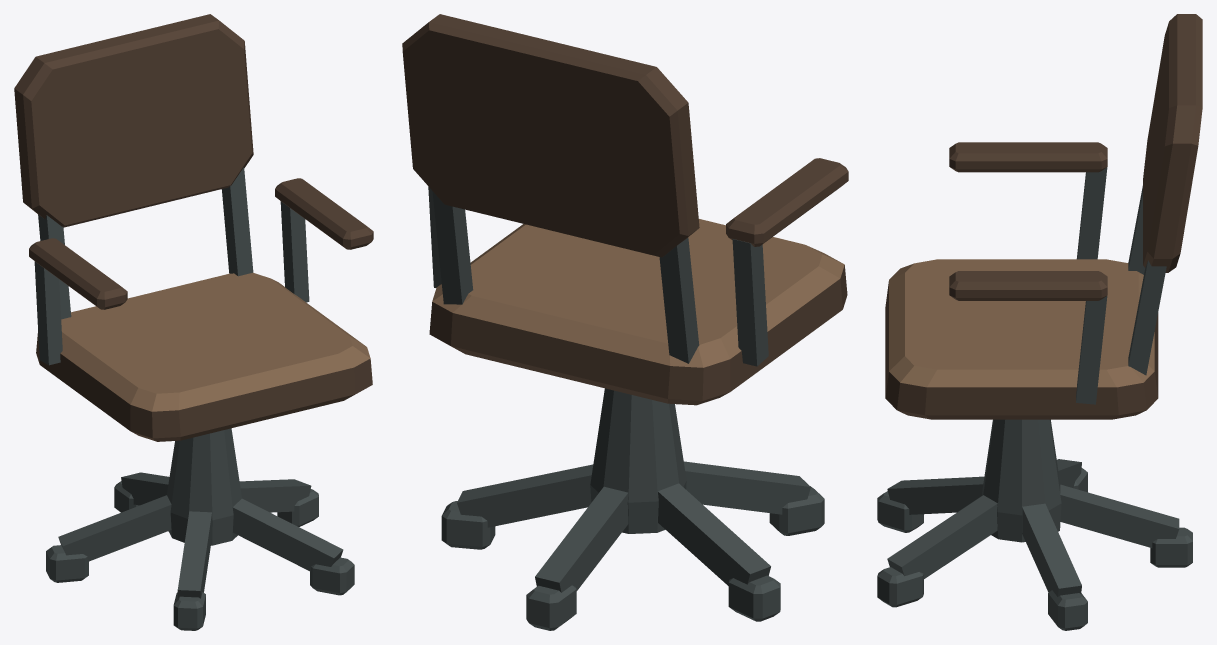
File: Bell_FranksChair.fbx
3 views of the same model, side by side, from view 1: azimuth 30°, elevation 25°; view 2: azimuth 150°, elevation 25°; view 3: azimuth 270°, elevation 25° (orthographic). The views are drawn at different scales.
Parts seen in each view (by area): view 1: Bell_FranksChair; view 2: Bell_FranksChair; view 3: Bell_FranksChair.
Part boxes in pixels (x1,y1,x2,y2): Bell_FranksChair: (14, 14, 373, 630); Bell_FranksChair: (402, 14, 848, 630); Bell_FranksChair: (877, 14, 1202, 630).
Size of the model in its own units: 0.614 by 0.998 by 0.5844.
